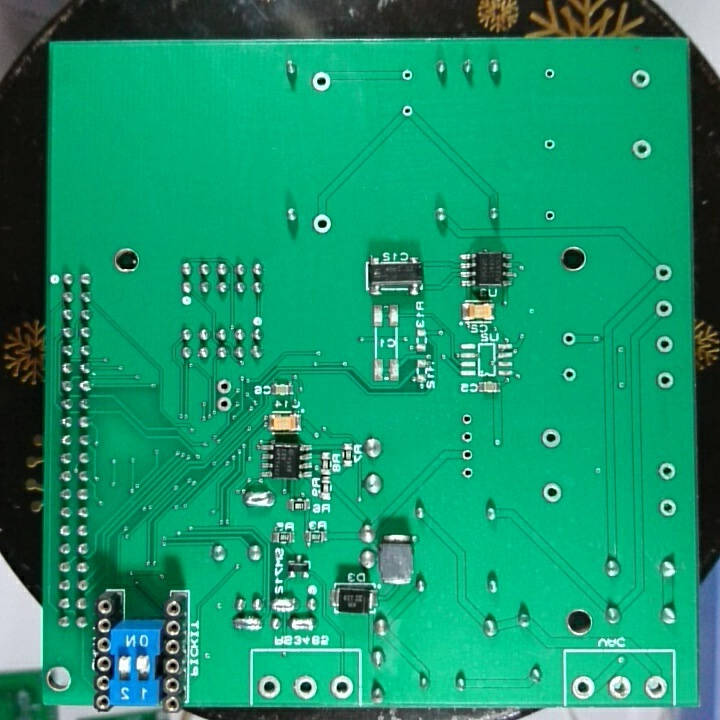F: (643, 671, 671, 702), (568, 674, 598, 702), (327, 672, 354, 703), (292, 673, 319, 702), (257, 671, 283, 701), (607, 673, 633, 700), (630, 137, 656, 163), (630, 66, 653, 95), (540, 480, 565, 506), (539, 426, 564, 450), (311, 212, 334, 238), (656, 496, 680, 520), (651, 261, 677, 283), (655, 460, 678, 484), (311, 71, 334, 94), (654, 332, 676, 356), (654, 369, 676, 392), (558, 329, 579, 350), (214, 376, 235, 396), (654, 298, 673, 320), (560, 366, 581, 384), (214, 396, 234, 414), (399, 102, 417, 121), (541, 206, 558, 226), (542, 63, 558, 84), (399, 65, 416, 84), (458, 428, 475, 447), (458, 411, 476, 428), (459, 465, 476, 483), (542, 135, 558, 153), (459, 447, 476, 463)
P: (241, 486, 277, 511), (230, 612, 263, 633), (287, 614, 320, 633), (269, 595, 300, 614)
